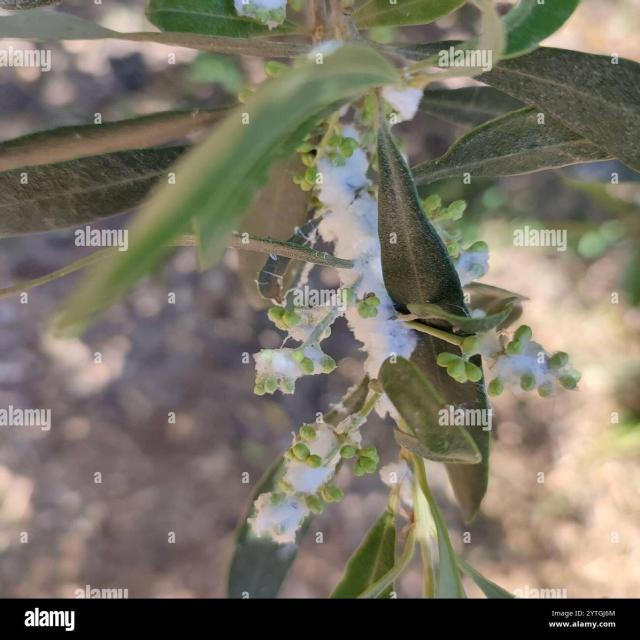Psyllid: (317, 143, 418, 378), (246, 398, 379, 544), (438, 324, 580, 398), (253, 306, 338, 395), (381, 458, 438, 544), (435, 222, 489, 288), (381, 82, 423, 125), (233, 0, 287, 32)
